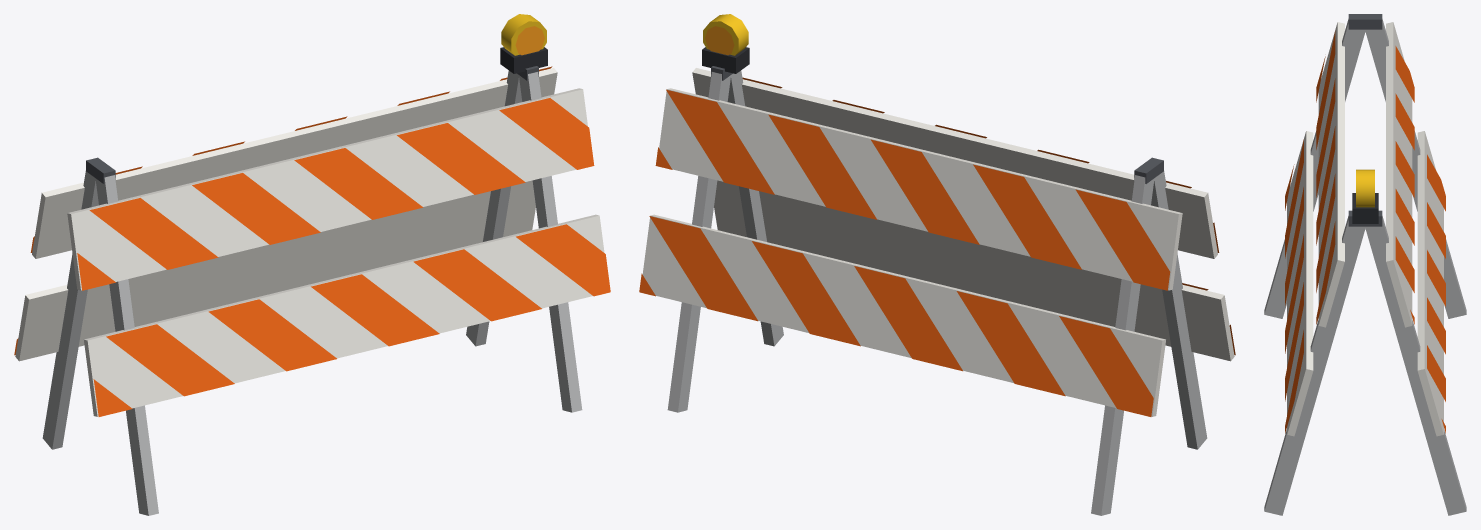
Rendered from barrier_construction.glb.
3 views of the same model, side by side, from view 1: azimuth 30°, elevation 25°; view 2: azimuth 150°, elevation 25°; view 3: azimuth 270°, elevation 25° (orthographic). The views are drawn at different scales.
Visible parts, largest first — view 1: barrier_construction__mesh; view 2: barrier_construction__mesh; view 3: barrier_construction__mesh.
Part boxes in pixels (left/top/right/bottom): barrier_construction__mesh: left=14, top=14, right=610, bottom=515; barrier_construction__mesh: left=639, top=14, right=1235, bottom=515; barrier_construction__mesh: left=1264, top=14, right=1466, bottom=515.
Size of the model in its own units: 1.5 by 1.01 by 0.5384.
1 material, 1 textured.
